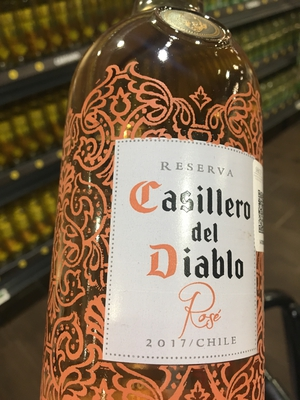casillero del diablo rose: (41, 9, 263, 400)
